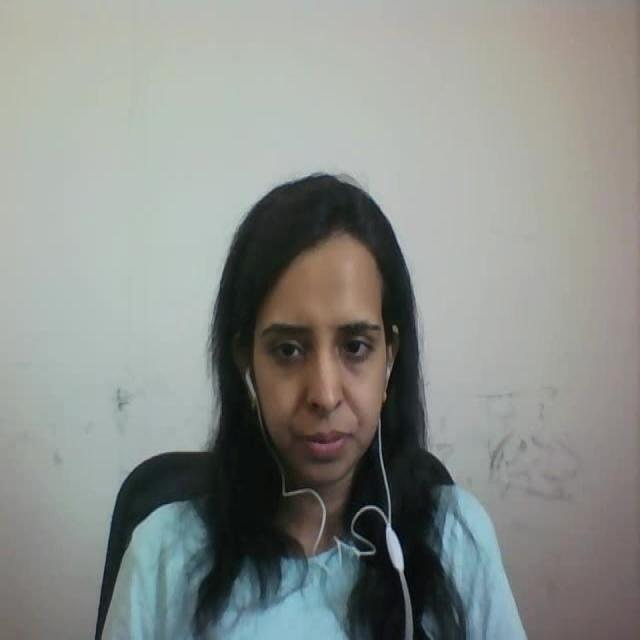Engaged: (198, 157, 454, 527)
